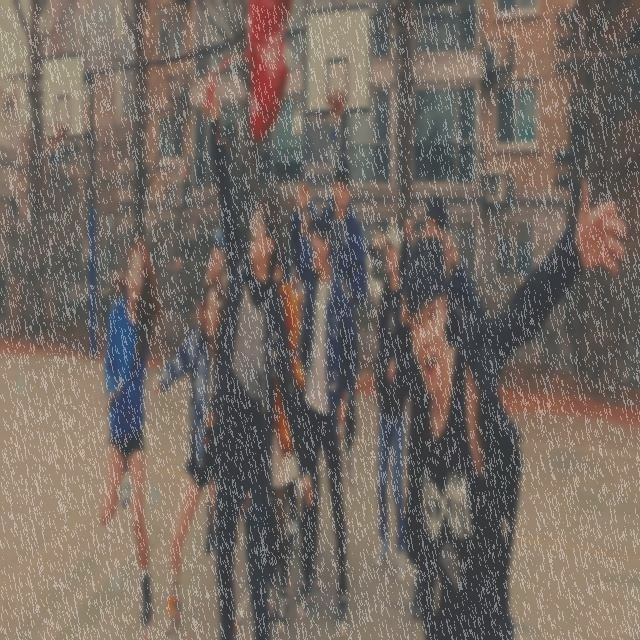pessoa: (202, 66, 314, 640), (403, 234, 522, 639), (447, 175, 627, 381), (290, 182, 360, 635), (400, 195, 475, 614), (152, 276, 227, 637), (99, 236, 168, 626), (305, 155, 369, 489), (362, 223, 409, 587), (266, 235, 299, 632), (286, 200, 310, 364), (204, 227, 230, 299), (265, 490, 279, 600)
